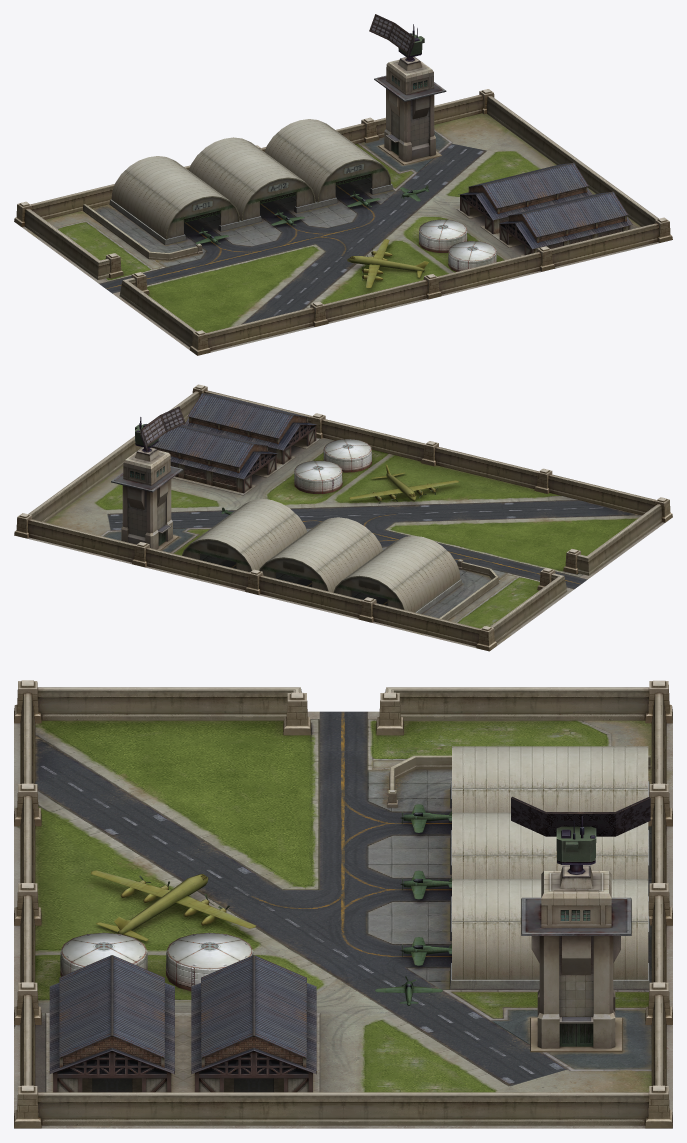
File: Dhz_airport.FBX
3 views of the same model, one above another, from view 1: azimuth 30°, elevation 25°; view 2: azimuth 150°, elevation 25°; view 3: azimuth 270°, elevation 25° (orthographic). The views are drawn at different scales.
Visible parts, largest first — view 1: Dhz_airport_01, Dhz_airport_radar; view 2: Dhz_airport_01, Dhz_airport_radar; view 3: Dhz_airport_01, Dhz_airport_radar.
Boxes of the visible parts, x1,y1,x2,y2 form: Dhz_airport_01: [14, 56, 672, 355]; Dhz_airport_radar: [369, 14, 424, 59]; Dhz_airport_01: [14, 384, 672, 651]; Dhz_airport_radar: [135, 406, 185, 451]; Dhz_airport_01: [14, 680, 672, 1128]; Dhz_airport_radar: [511, 796, 650, 864].
Bounding box in the file's own units: 370 × 94.4 × 247.
1 material, 1 textured.
